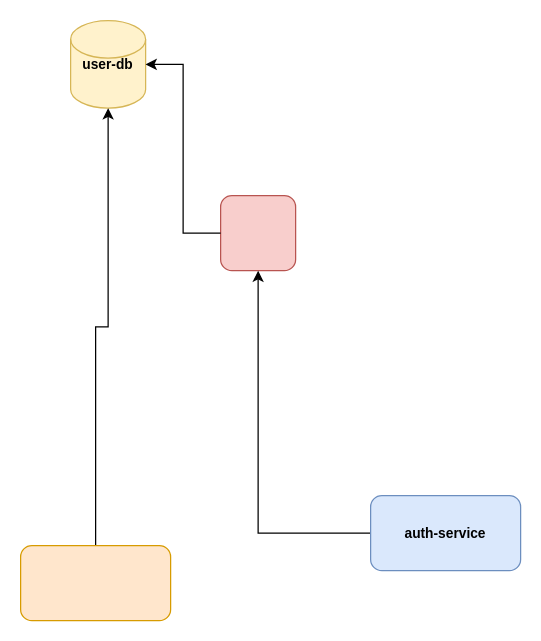
The diagram is 541 pixels wide and 641 high, and some of its shapes have lost their labels. Here are the shapes that lost their labels. From the top down, the centre of each, then its label:
point 257,232: event-bus
point 95,582: observability-platform
